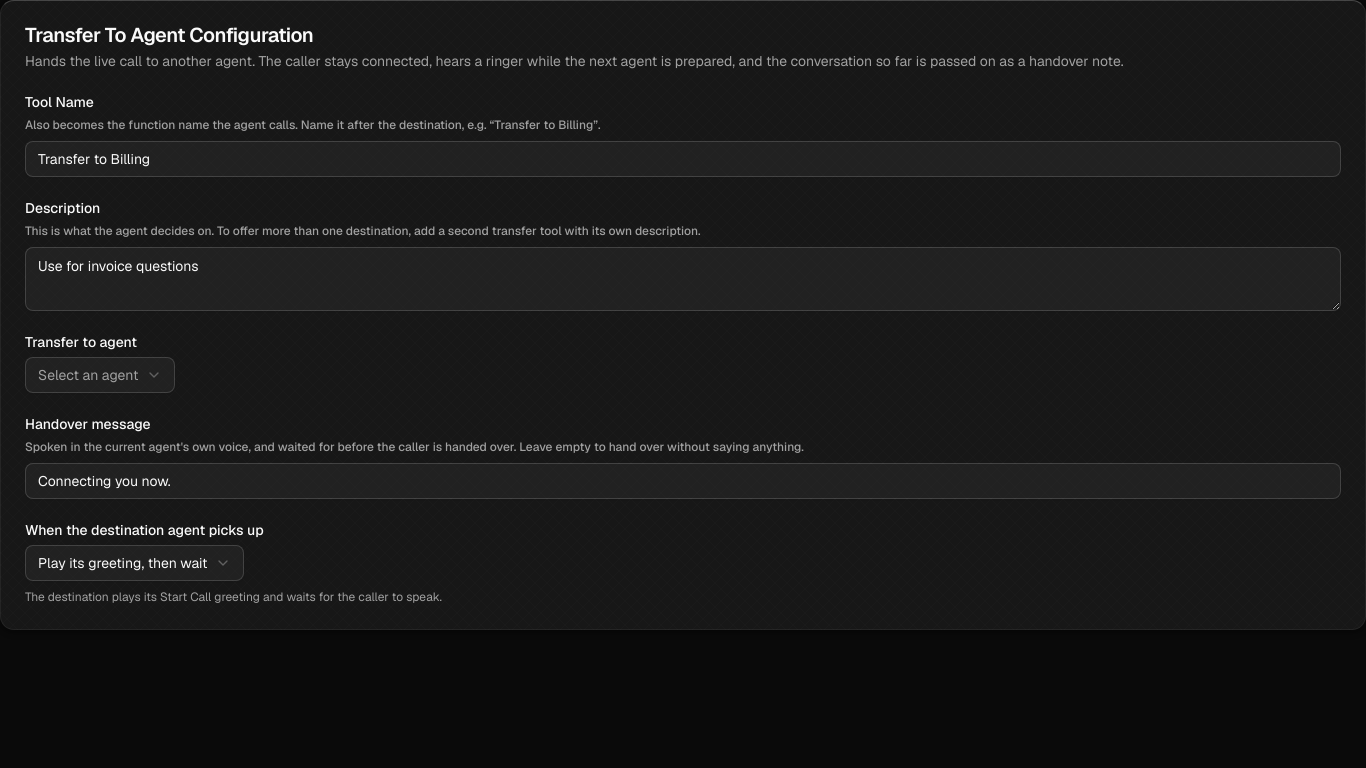
Test case: TransferAgentToolConfig › offers every agent in the organization as the destination
Step 1. Click the dropdown named "Transfer to agent" → (100, 375), box [25, 357, 175, 393]
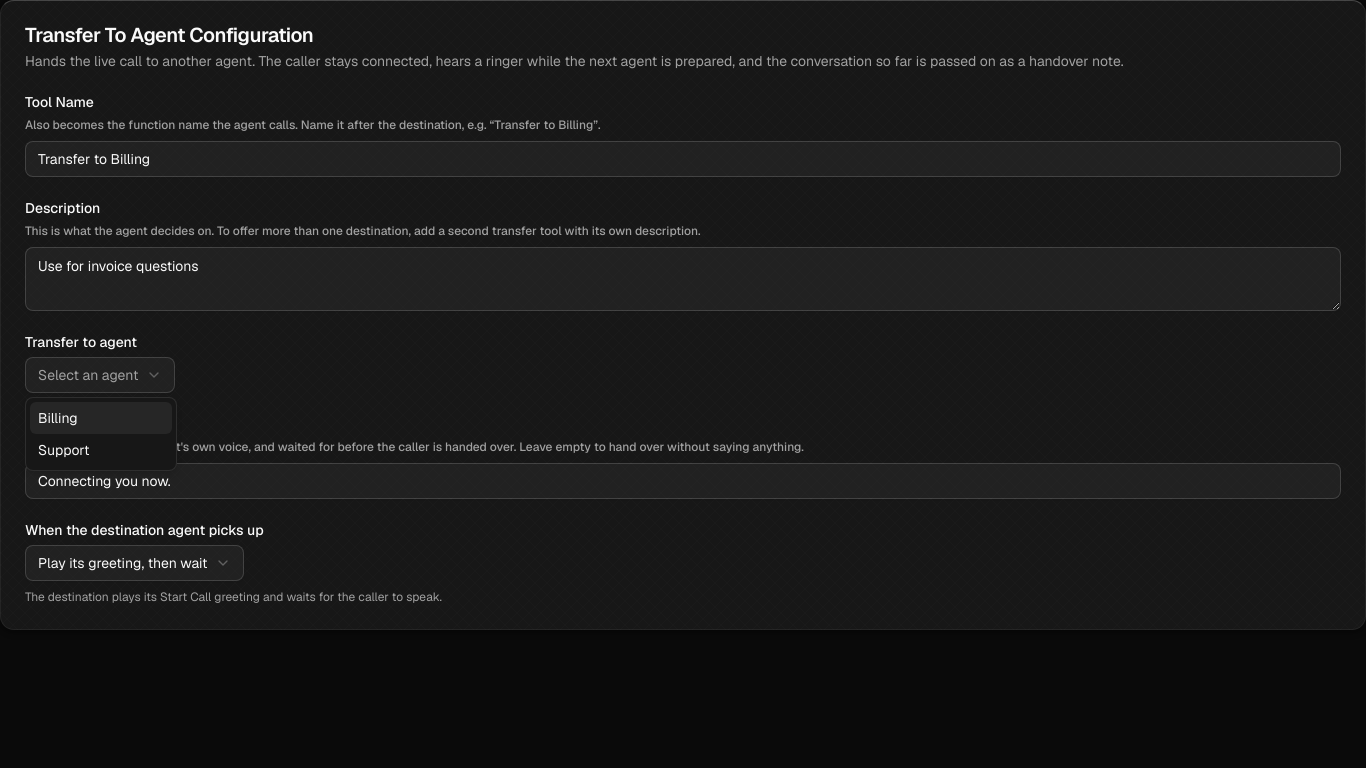
Now the text "Billing" is shown, box [38, 408, 78, 428]
Now the text "Support" is shown, box [38, 440, 89, 460]
